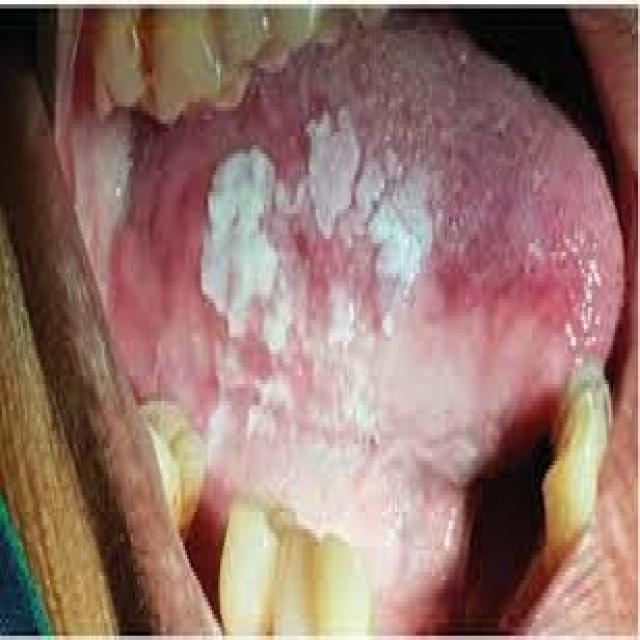Cancer: (180, 107, 476, 398), (69, 86, 157, 312)
